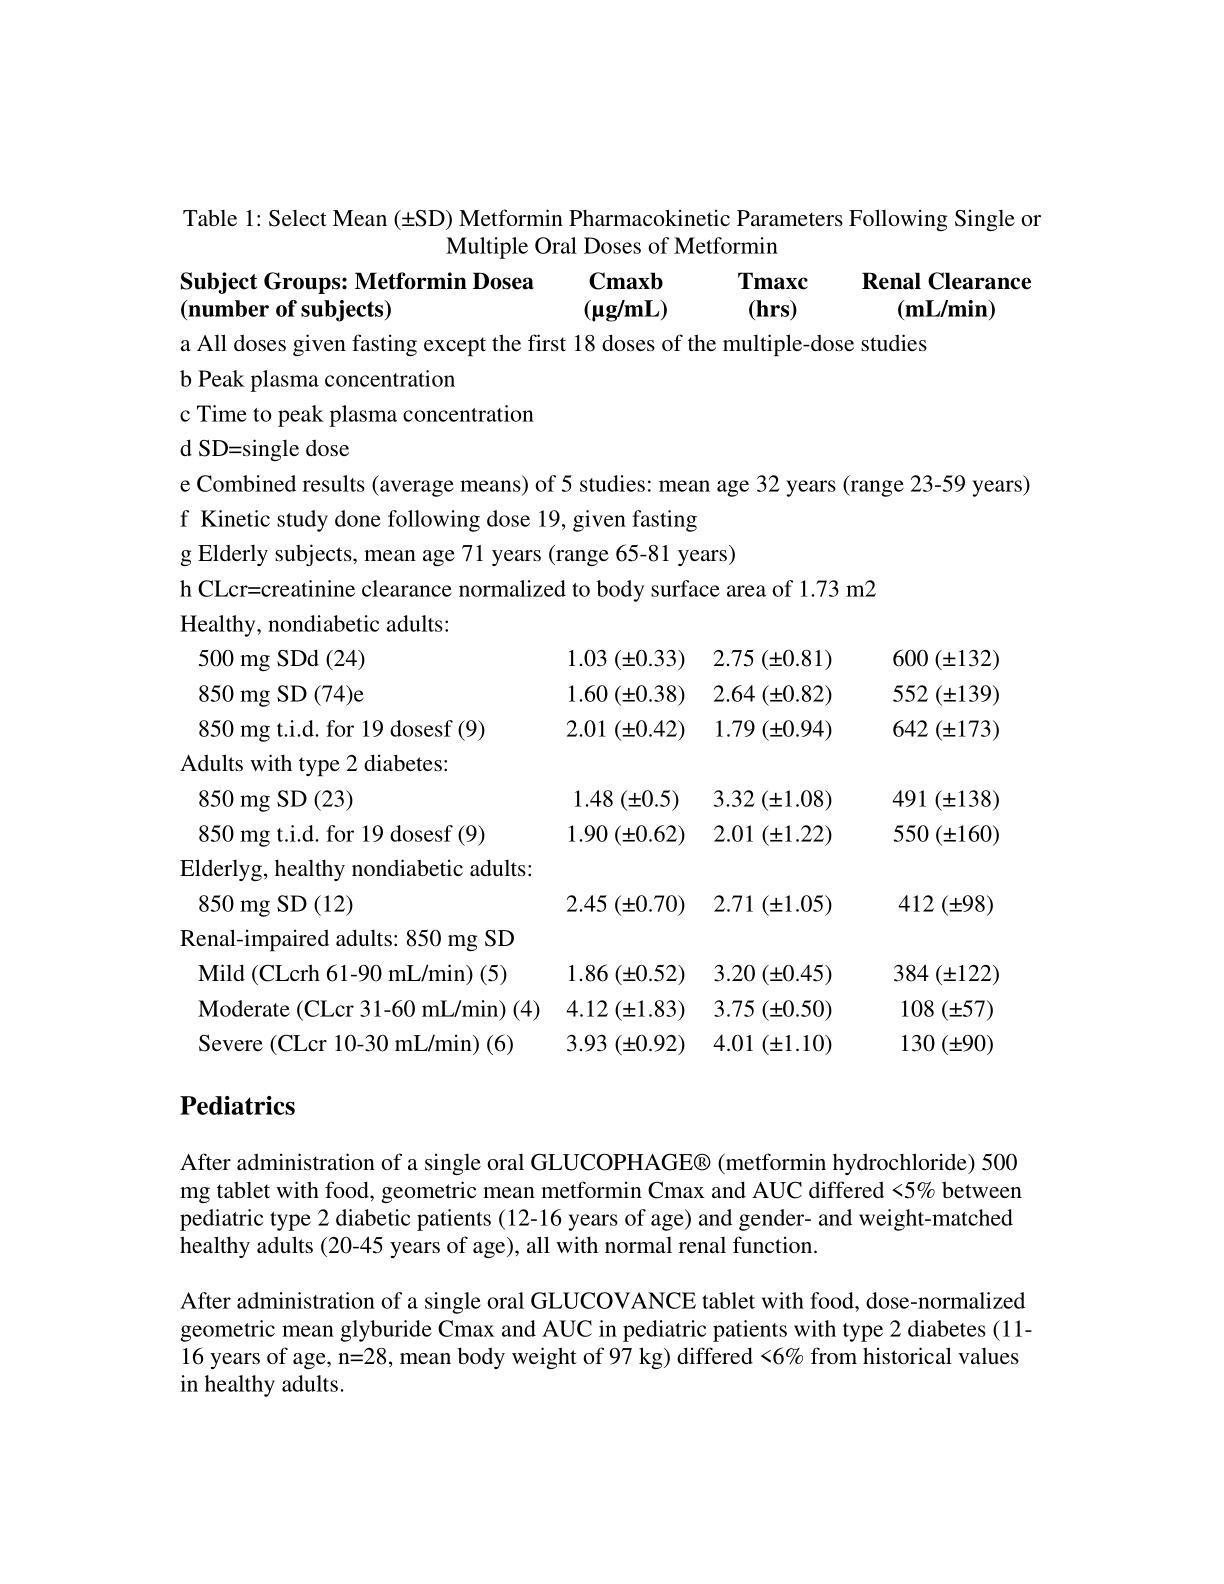nolines: (175, 262, 1038, 1062)
